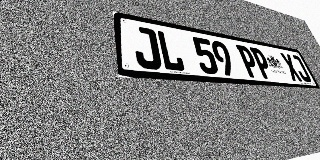5: (192, 36, 220, 75)
9: (209, 40, 237, 76)
J: (131, 25, 163, 70), (290, 54, 312, 82)
L: (156, 30, 186, 72)
P: (235, 44, 262, 78), (249, 47, 275, 79)
X: (279, 52, 303, 82)
